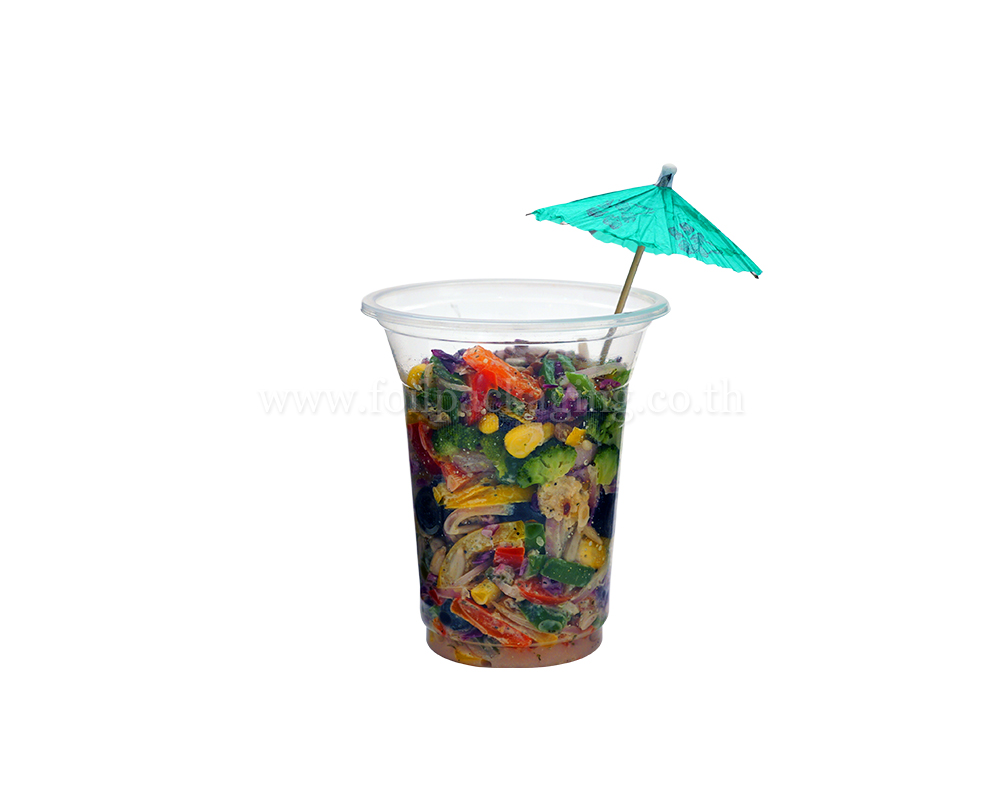plastic_glass: (356, 271, 676, 677)
